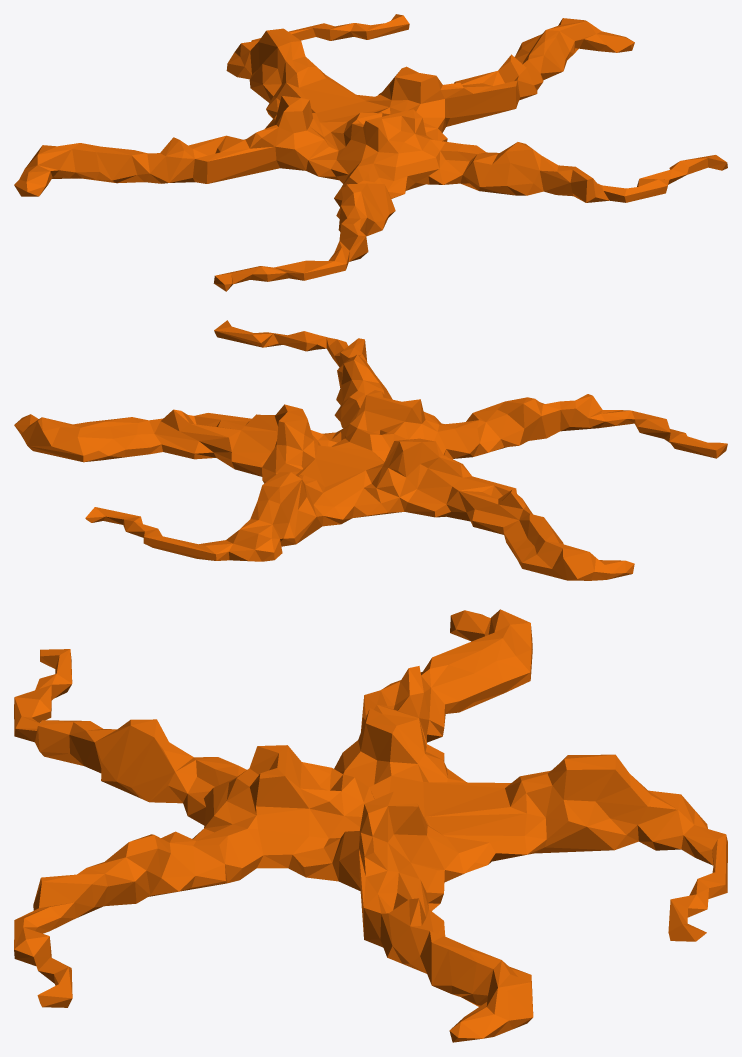
Rendered from estrela_1.fbx.
3 renders of one model, top to bottom at view 1: azimuth 30°, elevation 25°; view 2: azimuth 150°, elevation 25°; view 3: azimuth 270°, elevation 25°, orthographic. The views are drawn at different scales.
Parts seen in each view (by area): view 1: estrela 1; view 2: estrela 1; view 3: estrela 1.
Part boxes in pixels (x1,y1,x2,y2): estrela 1: [14, 14, 727, 291]; estrela 1: [14, 320, 727, 580]; estrela 1: [14, 609, 727, 1042].
Size of the model in its own units: 458 by 39.85 by 327.
